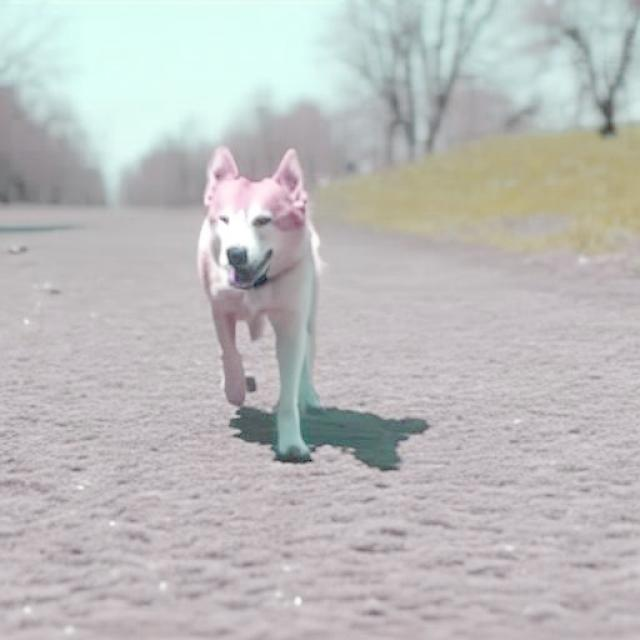Dog: (197, 146, 325, 462)
